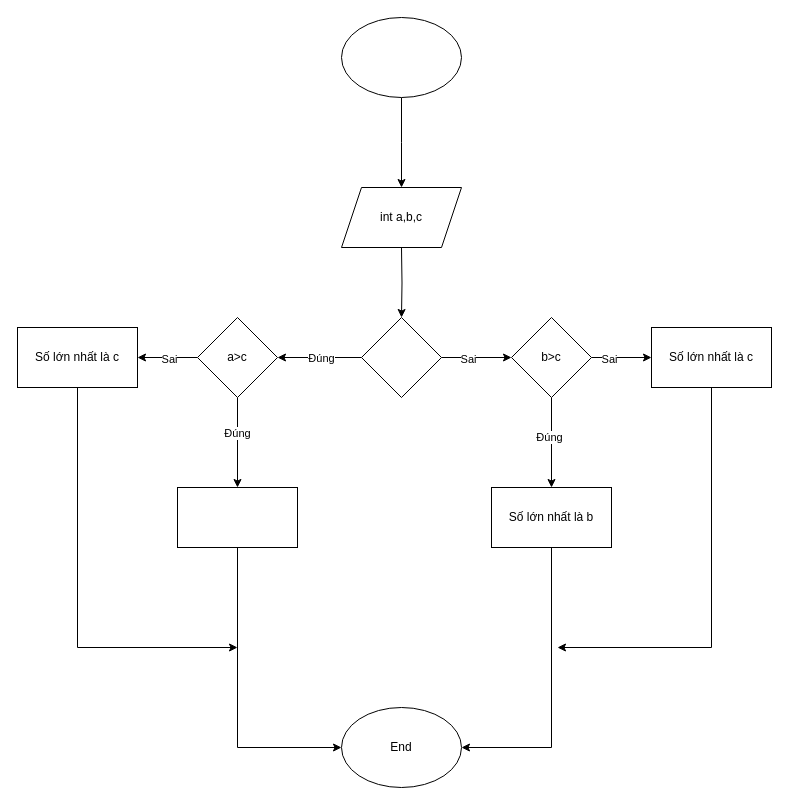
This 789x805 diagram has some shape labels left out. Each missing label, with the box of its shape:
a>b: (360, 316, 442, 398)
Start: (340, 16, 462, 98)
Số lớn nhất là a: (176, 486, 298, 548)
